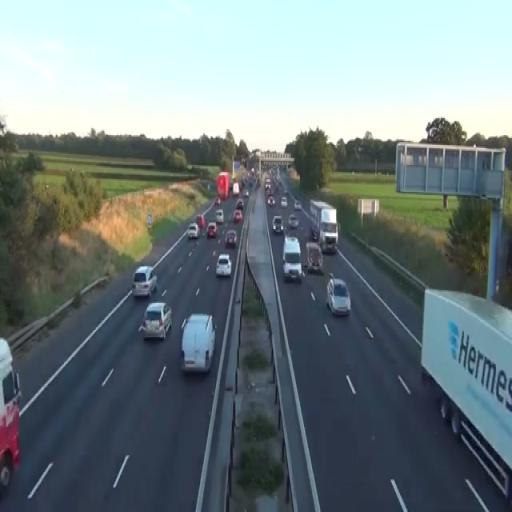Car: (140, 302, 172, 341), (281, 235, 303, 283), (326, 277, 352, 317), (132, 265, 157, 298), (216, 253, 232, 277), (272, 215, 284, 234), (225, 230, 237, 248), (187, 224, 199, 240), (288, 214, 299, 230), (233, 209, 244, 223), (207, 223, 217, 238), (214, 209, 224, 223)
Truck: (420, 288, 512, 504), (0, 337, 22, 494), (179, 312, 216, 375), (309, 200, 338, 254)
